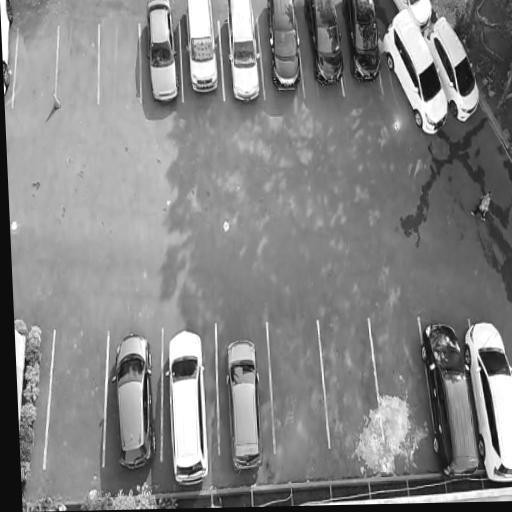Car: (418, 311, 487, 484), (378, 4, 456, 143), (160, 322, 213, 487), (462, 319, 512, 483), (215, 331, 268, 479), (423, 6, 488, 124), (108, 328, 159, 476), (141, 0, 182, 113), (224, 0, 263, 106), (266, 0, 304, 97), (185, 0, 221, 102), (307, 0, 345, 92), (344, 0, 384, 84), (395, 0, 437, 35)
Space Available: (44, 326, 109, 467), (317, 317, 383, 446), (267, 319, 329, 453), (370, 319, 434, 436), (98, 22, 142, 103), (14, 23, 58, 104), (55, 25, 99, 103)
